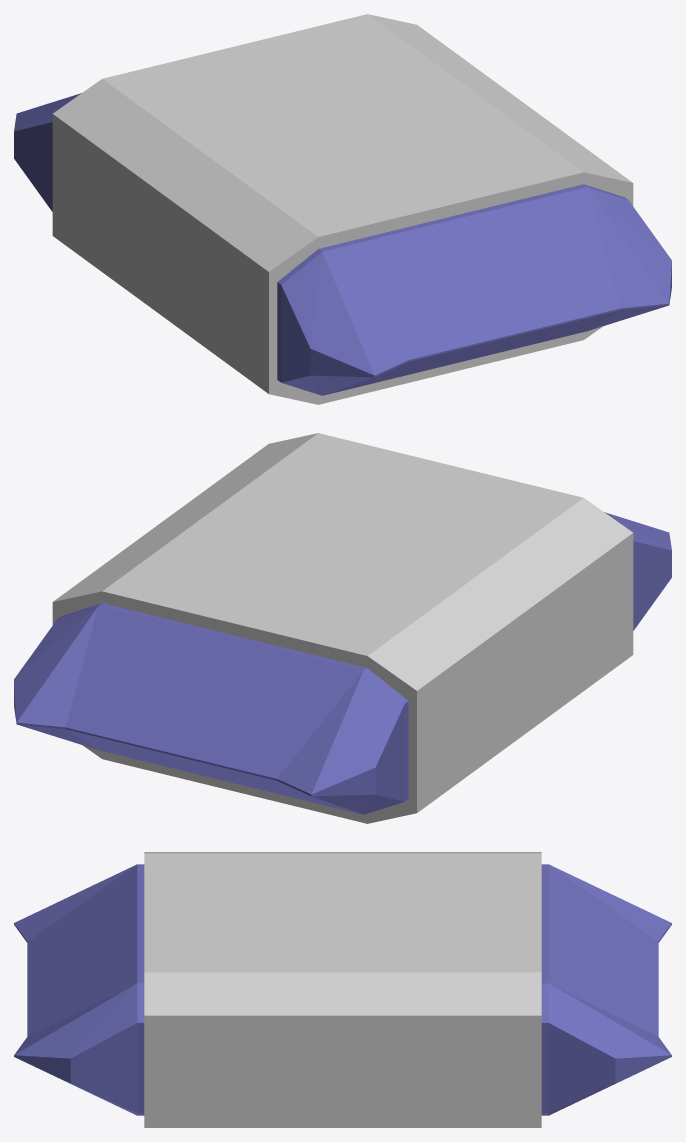
Rendered from pillow.obj.
3 views of the same model, one above another, from view 1: azimuth 30°, elevation 25°; view 2: azimuth 150°, elevation 25°; view 3: azimuth 270°, elevation 25° (orthographic). The views are drawn at different scales.
Parts seen in each view (by area): view 1: 立方体.001; view 2: 立方体.001; view 3: 立方体.001.
Part boxes in pixels (<box>): 立方体.001: <box>14,14,671,404</box>; 立方体.001: <box>14,433,671,823</box>; 立方体.001: <box>14,852,671,1127</box>.
Size of the model in its own units: 1.95 by 0.8566 by 3.31.
Materials: 1 (1 with a texture image).
